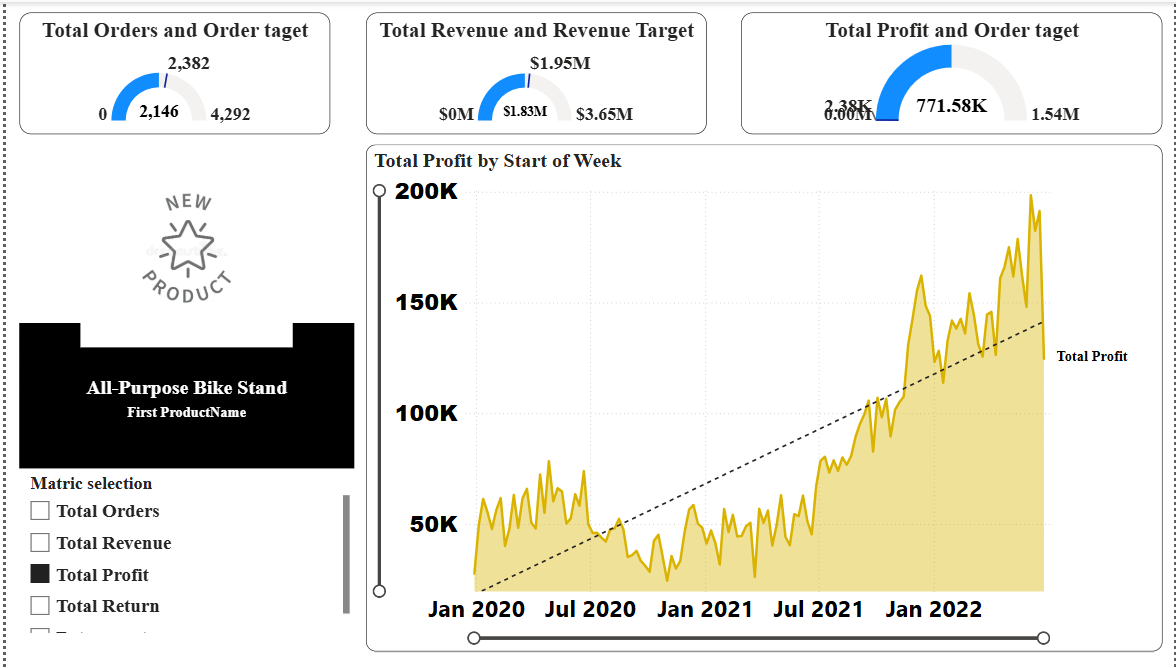

The dashboard page shown, as its layout file describes it:
{"tool":"powerbi","page":{"name":"Product details","canvas":[1400,800],"ordinal":2},"visuals":[{"type":"gauge","fields":{"Y":["Measure Table.Total Orders"],"TargetValue":["Measure Table.Order taget"]},"box":[16.2,12.6,372.4,145.7],"z":0},{"type":"gauge","fields":{"Y":["Measure Table.Total Revenue"],"TargetValue":["Measure Table.Revenue Target"]},"box":[431.8,12.6,408.4,145.7],"z":1000},{"type":"gauge","fields":{"Y":["Measure Table.Total Profit"],"TargetValue":["Measure Table.Order taget"]},"box":[881.6,12.6,505.6,145.7],"z":2000},{"type":"card","fields":{"Values":["Min(Product Lookup.ProductName)"]},"box":[16.2,385,401.2,174.5],"z":3000},{"type":"slicer","fields":{"Values":["Matric selection.Matric selection"]},"box":[16.2,559.5,401.2,201.5],"z":6000},{"type":"areaChart","fields":{"Y":["Measure Table.Total Profit"],"Category":["Calendar Lookup.Start of Week"]},"box":[431.8,170.9,955.3,608.1],"z":7000},{"type":"image","box":[30.6,170.9,372.4,248.3],"z":7001}]}

Visuals, with their boxes in screenshot pixels (x1, y1, x2, y2), scaled from the page's 1400x800 canvas onto the 1176x668 screenshot:
gauge - Measure Table.Total Orders x Measure Table.Order taget: 14,11,326,132
gauge - Measure Table.Total Revenue x Measure Table.Revenue Target: 363,11,706,132
gauge - Measure Table.Total Profit x Measure Table.Order taget: 741,11,1165,132
card - Min(Product Lookup.ProductName): 14,321,351,467
slicer - Matric selection.Matric selection: 14,467,351,635
areaChart - Measure Table.Total Profit x Calendar Lookup.Start of Week: 363,143,1165,650
image: 26,143,339,350
